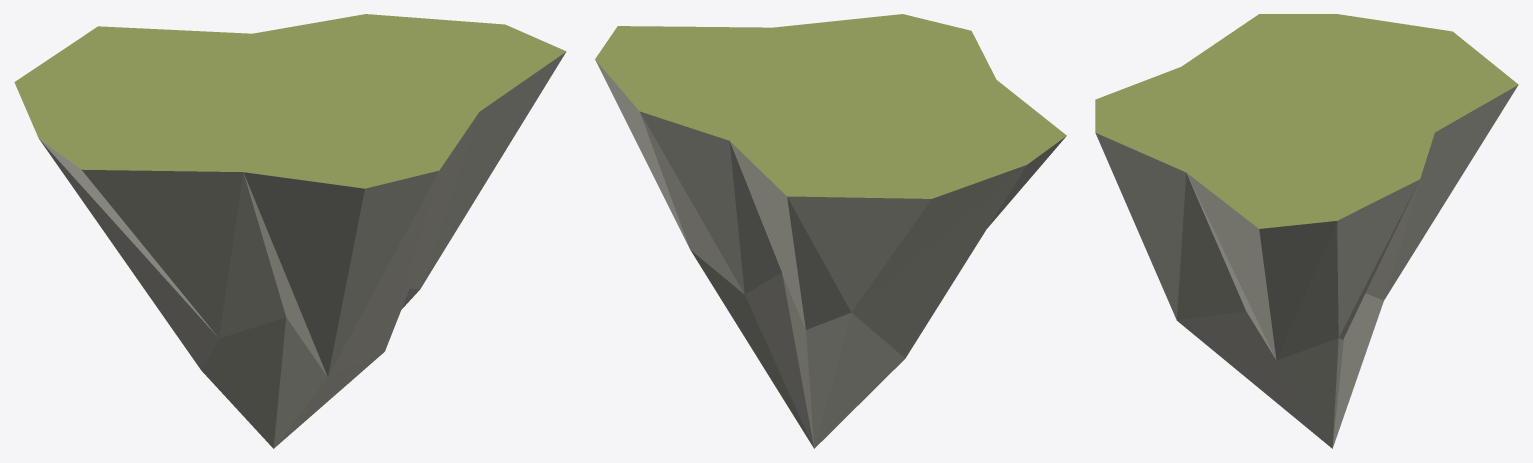
File: island02.fbx
3 views of the same model, side by side, from view 1: azimuth 30°, elevation 25°; view 2: azimuth 150°, elevation 25°; view 3: azimuth 270°, elevation 25° (orthographic). The views are drawn at different scales.
Parts seen in each view (by area): view 1: pPlane3; view 2: pPlane3; view 3: pPlane3.
Part boxes in pixels (bbox=[...]): pPlane3: bbox=[14, 14, 566, 448]; pPlane3: bbox=[595, 14, 1066, 448]; pPlane3: bbox=[1095, 14, 1518, 448].
Bounding box in the file's own units: 0.1147 × 0.0826 × 0.0955.
